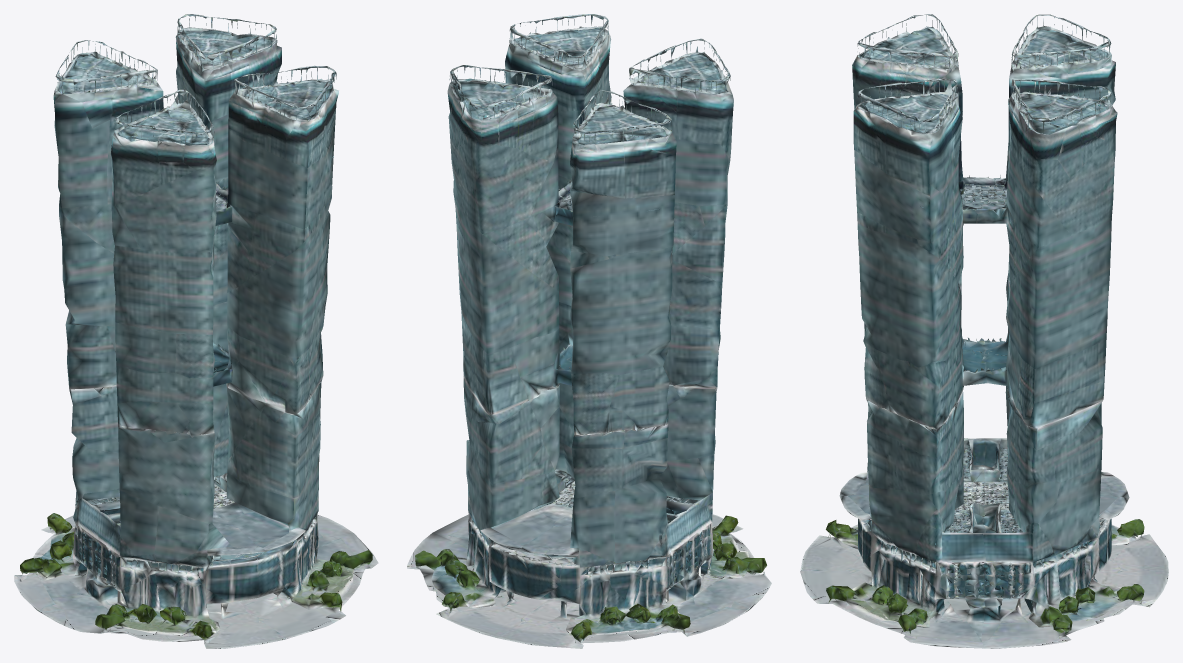
Rendered from tower_k_p.glb.
3 renders of one model, left to right at view 1: azimuth 30°, elevation 25°; view 2: azimuth 150°, elevation 25°; view 3: azimuth 270°, elevation 25°, orthographic.
Bounding box in the file's own units: 1.26 × 1.9 × 1.26.
Materials: 1 (1 with a texture image).
